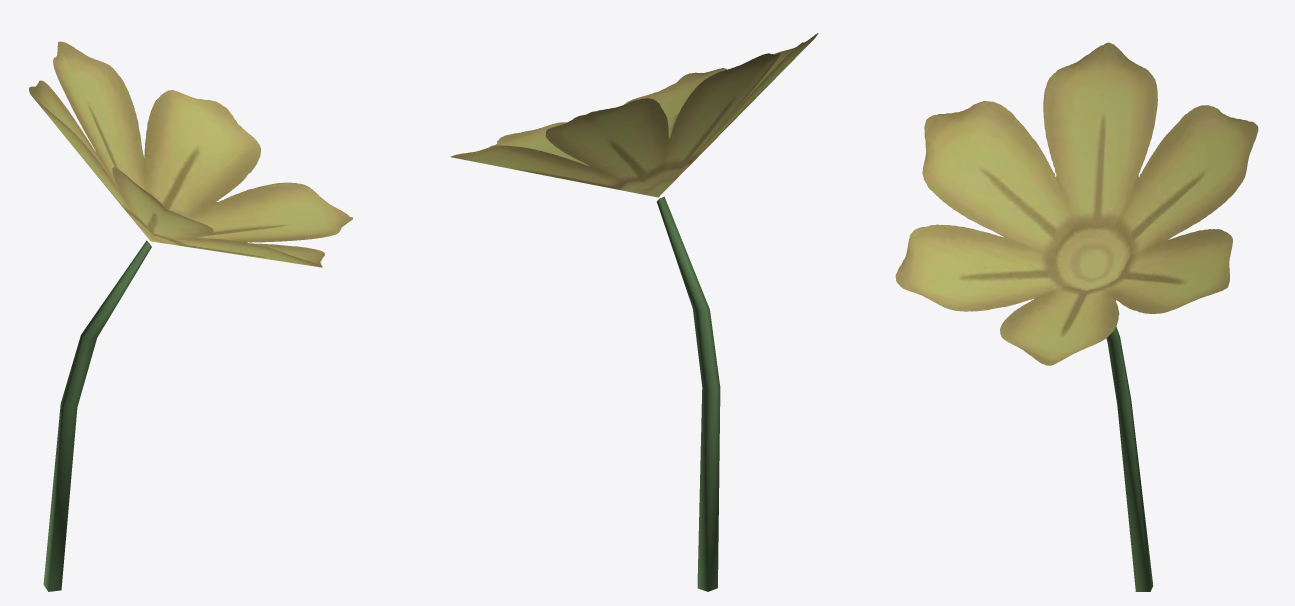
The model's file is flower_2.glb.
3 renders of one model, left to right at view 1: azimuth 30°, elevation 25°; view 2: azimuth 150°, elevation 25°; view 3: azimuth 270°, elevation 25°, orthographic. The views are drawn at different scales.
Parts seen in each view (by area): view 1: Flower_2; view 2: Flower_2; view 3: Flower_2.
Part boxes in pixels (left/top/right/bottom): Flower_2: left=29, top=41, right=352, bottom=591; Flower_2: left=450, top=33, right=818, bottom=591; Flower_2: left=895, top=42, right=1258, bottom=591.
Bounding box in the file's own units: 0.239 × 0.3613 × 0.2473.
1 material, 1 textured.
